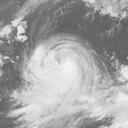cyclone: (23, 33, 112, 120)
